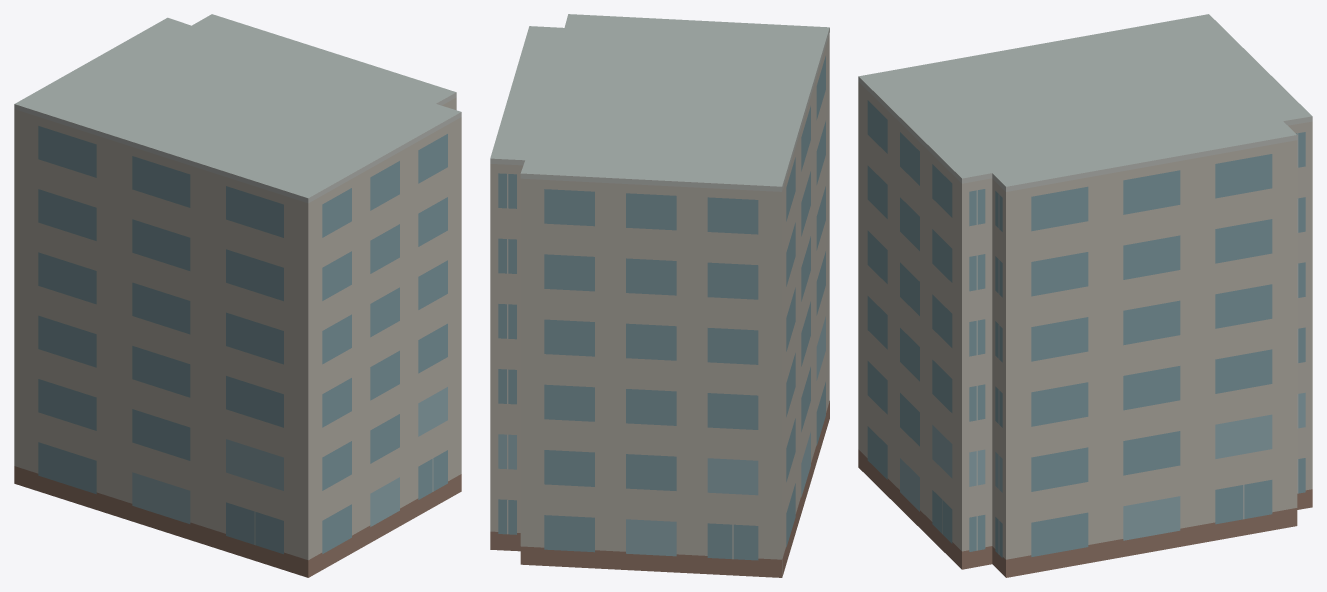
Rendered from survey-upis-32595260.glb.
3 renders of one model, left to right at view 1: azimuth 30°, elevation 25°; view 2: azimuth 150°, elevation 25°; view 3: azimuth 270°, elevation 25°, orthographic. The views are drawn at different scales.
Visible parts, largest first — view 1: survey-upis-32595260.tmp; view 2: survey-upis-32595260.tmp; view 3: survey-upis-32595260.tmp.
Boxes of the visible parts, <box> form: survey-upis-32595260.tmp: <box>14,14,461,577</box>; survey-upis-32595260.tmp: <box>490,14,829,577</box>; survey-upis-32595260.tmp: <box>858,14,1312,577</box>.
Size of the model in its own units: 17.36 by 18.3 by 19.27.
